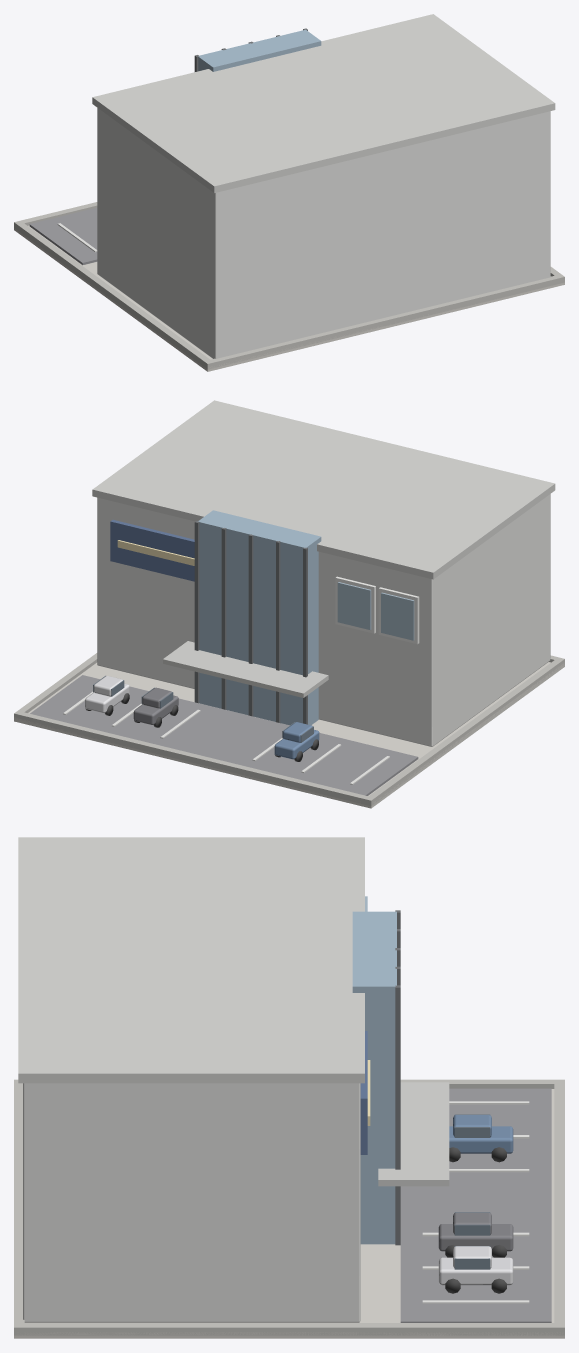
Rendered from mapa.mall.fbx.
3 views of the same model, one above another, from view 1: azimuth 30°, elevation 25°; view 2: azimuth 150°, elevation 25°; view 3: azimuth 270°, elevation 25° (orthographic). The views are drawn at different scales.
Parts seen in each view (by area): view 1: Mall, Cornisa, Solera.001, Solera.003, Vereda, Entrada, Estacionamiento, Solera; view 2: Mall, Cornisa, Entrada, Estacionamiento, Vereda, Solera, Alero, Franja del cine, Solera.003, Vidrio, Vidrio.001, Montante.001 (+11 smaller); view 3: Cornisa, Mall, Estacionamiento, Entrada, Vereda, Solera.002, Alero, Solera, Solera.001, Carrocería, Montante, Carrocería.002 (+3 smaller).
Boxes of the visible parts, x1,y1,x2,y2 form: Mall: [97, 108, 550, 358]; Cornisa: [92, 14, 555, 192]; Solera.001: [204, 274, 564, 369]; Solera.003: [14, 222, 213, 368]; Vereda: [14, 225, 564, 371]; Entrada: [198, 29, 321, 71]; Estacionamiento: [29, 207, 97, 265]; Solera: [14, 202, 97, 229]; Mall: [97, 494, 550, 746]; Cornisa: [92, 400, 555, 579]; Entrada: [198, 510, 321, 725]; Estacionamiento: [30, 675, 418, 795]; Vereda: [14, 662, 564, 808]; Solera: [14, 711, 374, 806]; Alero: [163, 641, 328, 697]; Franja del cine: [110, 519, 194, 581]; Solera.003: [365, 657, 564, 803]; Vidrio: [337, 582, 371, 629]; Vidrio.001: [381, 592, 414, 640]; Montante.001: [221, 528, 226, 709]; Cornisa: [18, 837, 364, 1083]; Mall: [23, 1083, 360, 1322]; Estacionamiento: [400, 1088, 551, 1322]; Entrada: [352, 911, 396, 1244]; Vereda: [14, 1089, 564, 1338]; Solera.002: [14, 1323, 564, 1335]; Alero: [378, 1082, 449, 1186]; Solera: [554, 1079, 564, 1335]; Solera.001: [14, 1079, 24, 1335]; Carrocería: [438, 1257, 513, 1285]; Montante: [395, 985, 400, 1245]; Carrocería.002: [438, 1224, 513, 1251].
Bounding box in the file's own units: 3.3 × 1.65 × 3.1.
